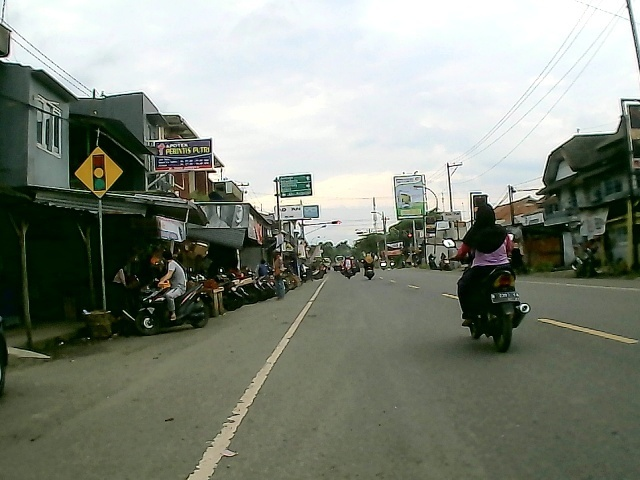Lampu isyarat: (74, 146, 124, 198)
